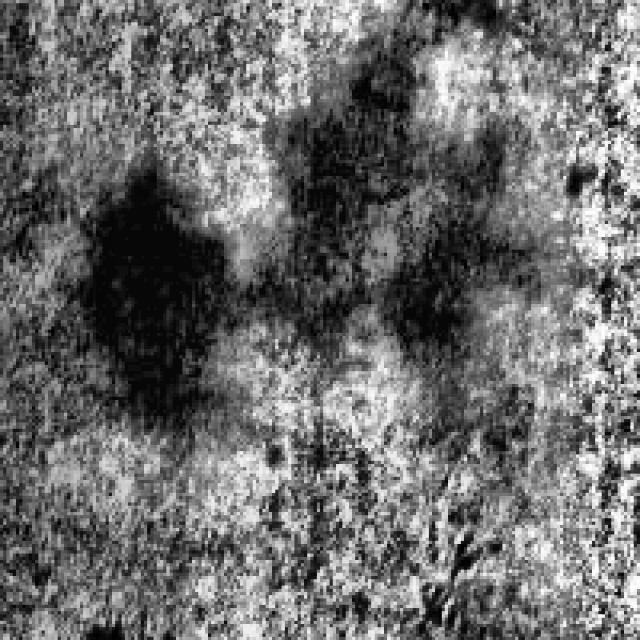Scratches: (253, 28, 532, 374), (51, 147, 234, 442)
